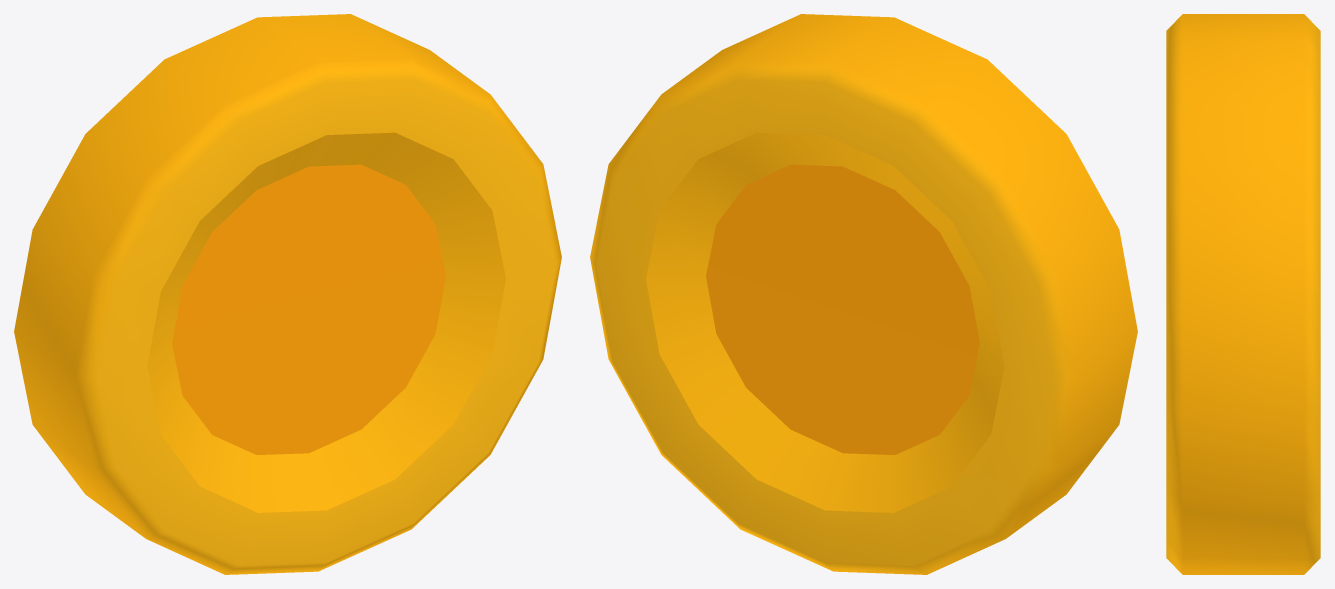
File: coin_001.glb
3 views of the same model, side by side, from view 1: azimuth 30°, elevation 25°; view 2: azimuth 150°, elevation 25°; view 3: azimuth 270°, elevation 25° (orthographic).
Visible parts, largest first — view 1: coin_001; view 2: coin_001; view 3: coin_001.
Part boxes in pixels (bbox=[...]): coin_001: bbox=[14, 14, 561, 574]; coin_001: bbox=[590, 14, 1137, 574]; coin_001: bbox=[1166, 14, 1320, 574].
Bounding box in the file's own units: 1.28 × 1.28 × 0.3535.
Materials: 1 (1 with a texture image).
